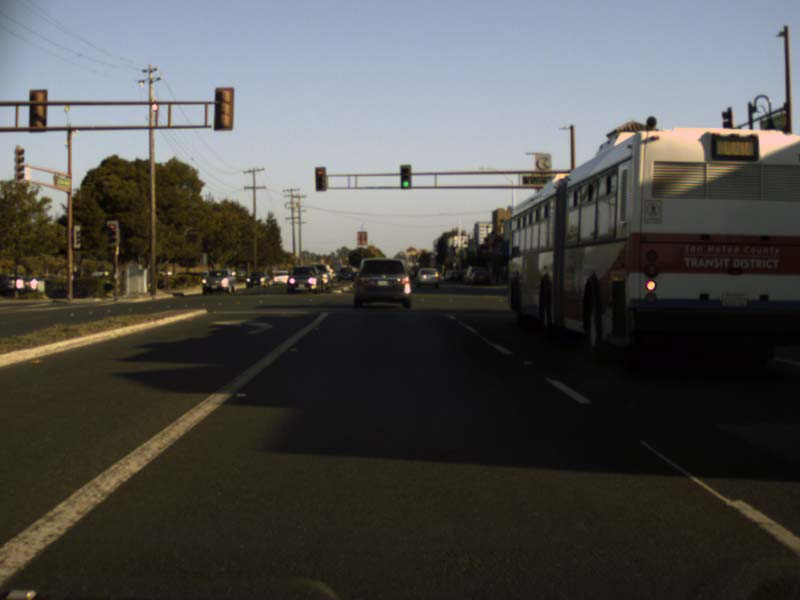Green: (399, 164, 410, 188)
Red: (106, 220, 118, 245), (314, 167, 326, 190)
